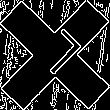L_SW: (26, 26, 84, 84)
